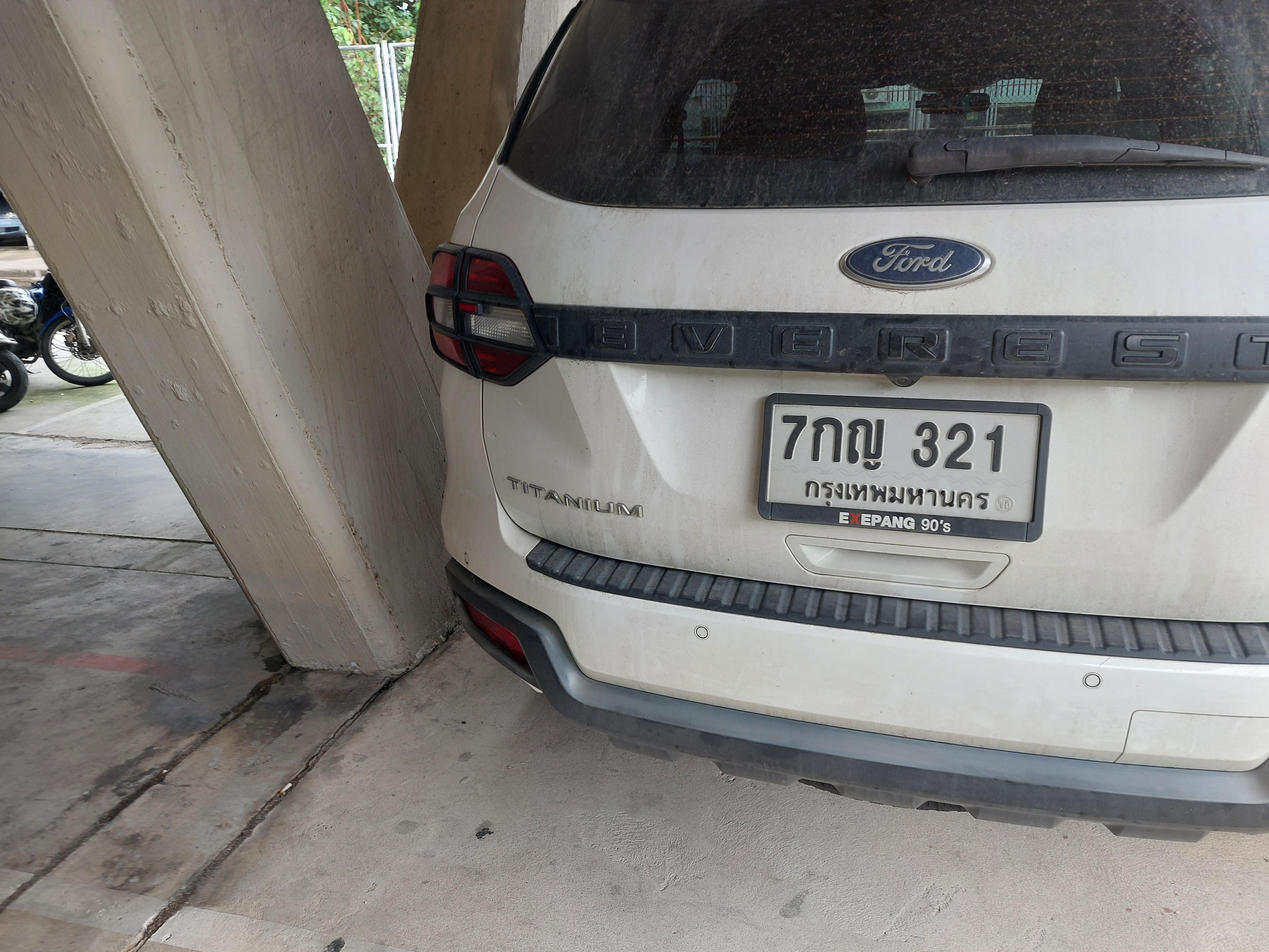license-plate: (758, 388, 1053, 544)
